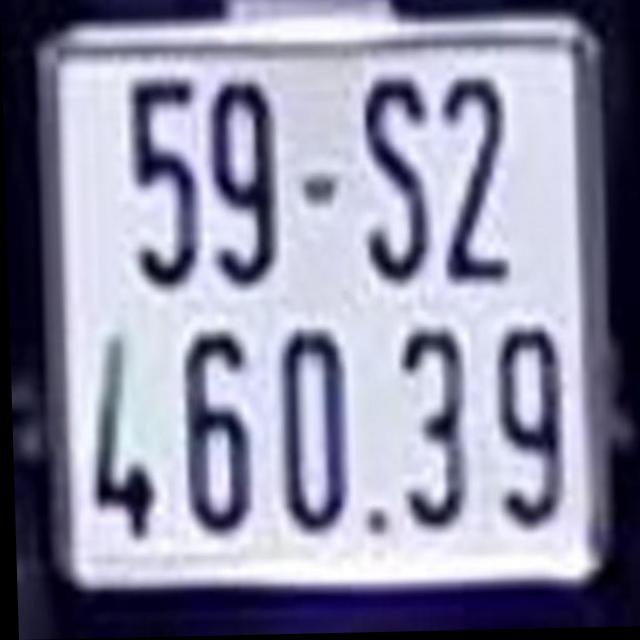0: (280, 322, 347, 526)
2: (440, 74, 513, 287)
3: (400, 326, 462, 519)
4: (84, 331, 155, 535)
5: (124, 71, 203, 286)
6: (180, 325, 253, 535)
9: (492, 322, 563, 527), (210, 80, 275, 285)
S: (359, 73, 434, 289)
